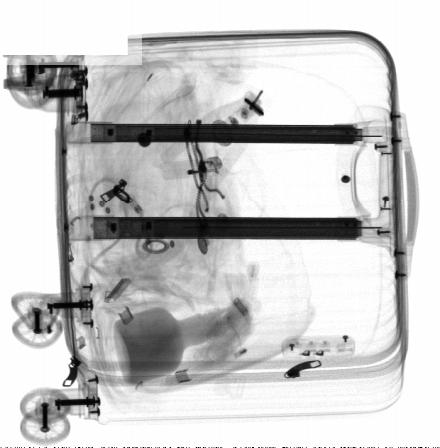Lighter: (161, 156, 226, 179)
